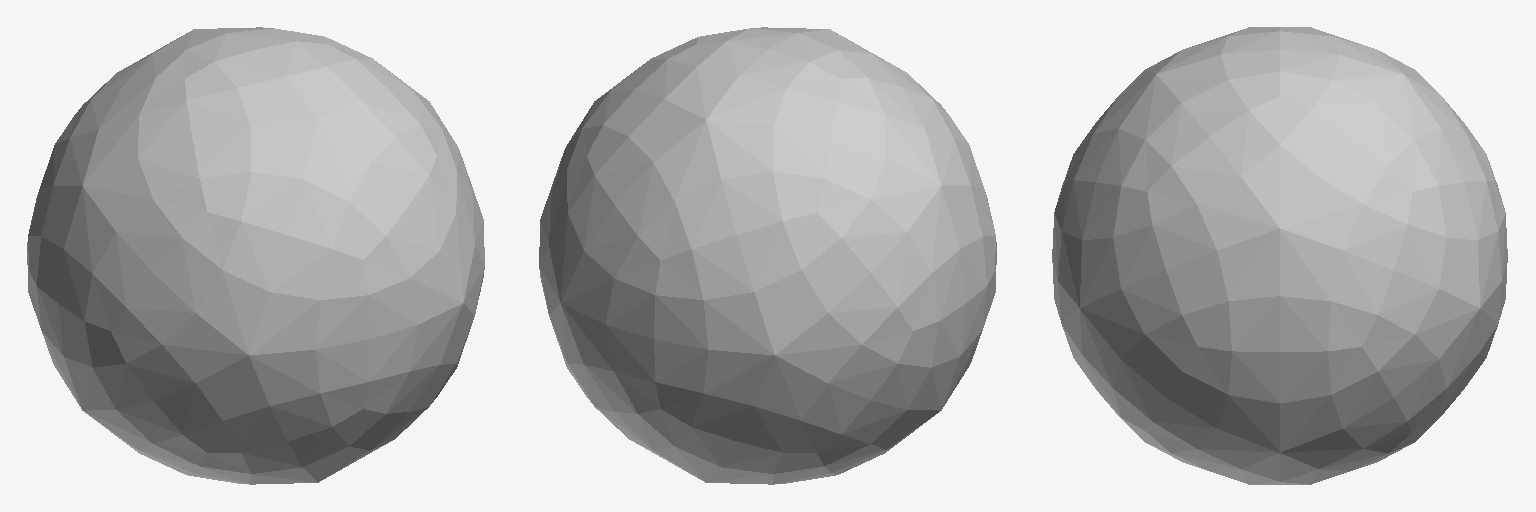
The model's file is model_planet_large.obj.
3 views of the same model, side by side, from view 1: azimuth 30°, elevation 25°; view 2: azimuth 150°, elevation 25°; view 3: azimuth 270°, elevation 25° (orthographic).
Parts seen in each view (by area): view 1: obj_planet_0; view 2: obj_planet_0; view 3: obj_planet_0.
Part boxes in pixels (x1,y1,x2,y2): obj_planet_0: (27, 27, 484, 484); obj_planet_0: (539, 27, 996, 484); obj_planet_0: (1052, 27, 1507, 484).
Size of the model in its own units: 36.4 by 36.4 by 36.4.